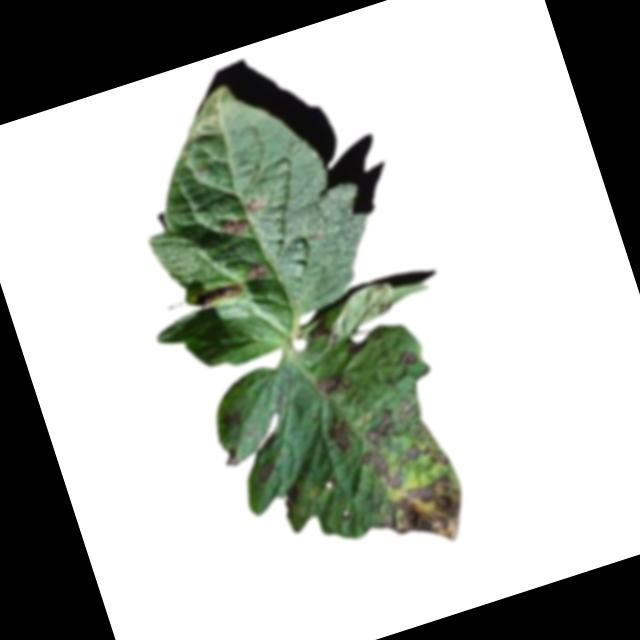Early_blight: (371, 471, 474, 559), (354, 441, 405, 498), (398, 435, 450, 479), (356, 403, 399, 446), (317, 409, 353, 454), (192, 279, 243, 309), (305, 311, 342, 351), (214, 211, 253, 246), (314, 368, 350, 402), (248, 455, 280, 488), (215, 408, 246, 437), (240, 256, 267, 285), (241, 192, 269, 216), (390, 346, 419, 369)
